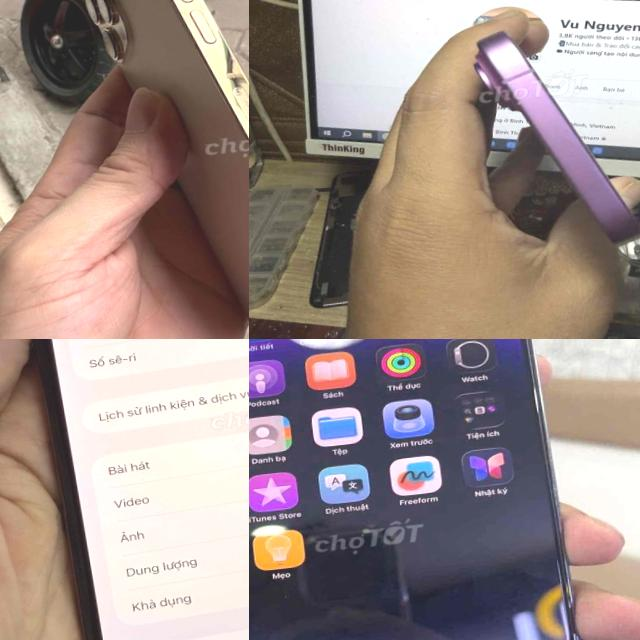gen_11: (6, 339, 249, 640)
gen_12_13: (48, 0, 249, 339)
gen_14: (249, 339, 606, 640)
gen_16: (464, 2, 640, 271)
